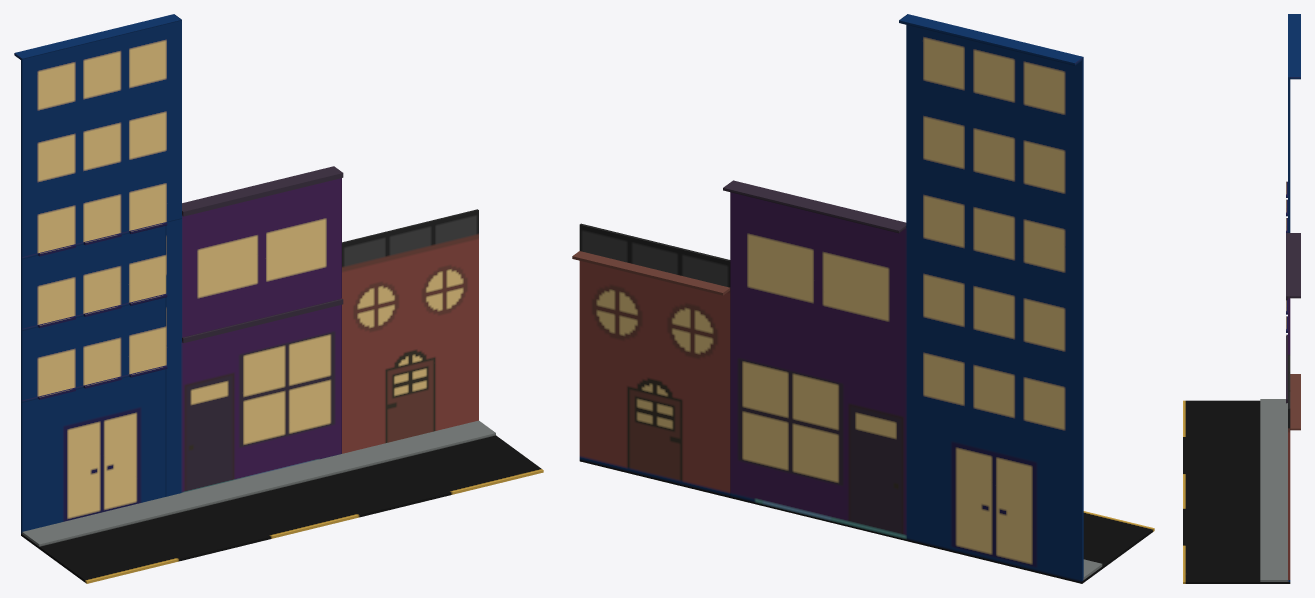
File: Calle.obj
The picture shows the model from 3 angles, left to right: view 1: azimuth 30°, elevation 25°; view 2: azimuth 150°, elevation 25°; view 3: azimuth 270°, elevation 25°; orthographic projection. The views are drawn at different scales.
Visible parts, largest first — view 1: Content.001; view 2: Content.001; view 3: Content.001.
Boxes of the visible parts, x1,y1,x2,y2 form: Content.001: (14,14,543,583); Content.001: (572,14,1154,583); Content.001: (1183,14,1300,583).
Size of the model in its own units: 24 by 24 by 6.6.
